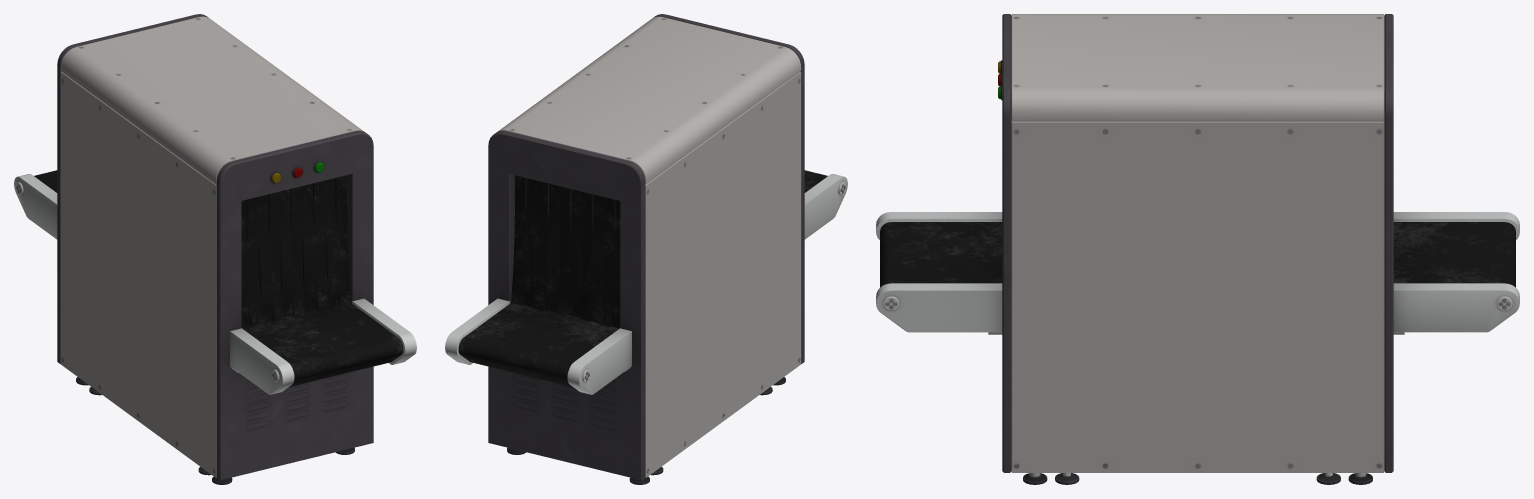
File: luggage_scanner_0001.fbx
3 views of the same model, side by side, from view 1: azimuth 30°, elevation 25°; view 2: azimuth 150°, elevation 25°; view 3: azimuth 270°, elevation 25° (orthographic). The views are drawn at different scales.
Visible parts, largest first — view 1: luggage_scanner_main; view 2: luggage_scanner_main; view 3: luggage_scanner_main.
Part boxes in pixels (x1=…): luggage_scanner_main: x1=14, y1=14, x2=416, y2=484; luggage_scanner_main: x1=445, y1=14, x2=847, y2=484; luggage_scanner_main: x1=876, y1=14, x2=1519, y2=484.
Size of the model in its own units: 0.8205 by 1.66 by 2.48.
